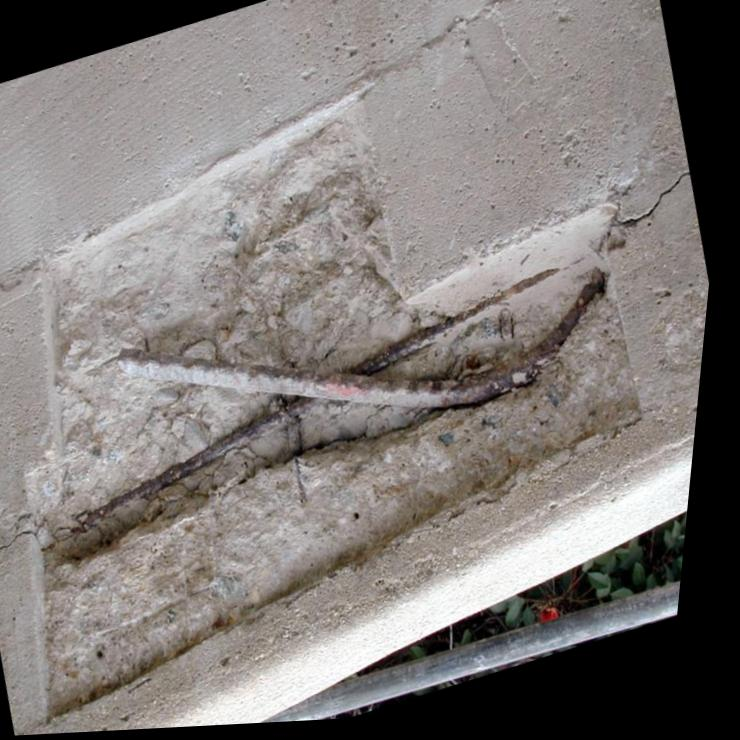crack: (616, 178, 695, 234), (0, 531, 47, 555)
damage: (40, 99, 654, 727)
